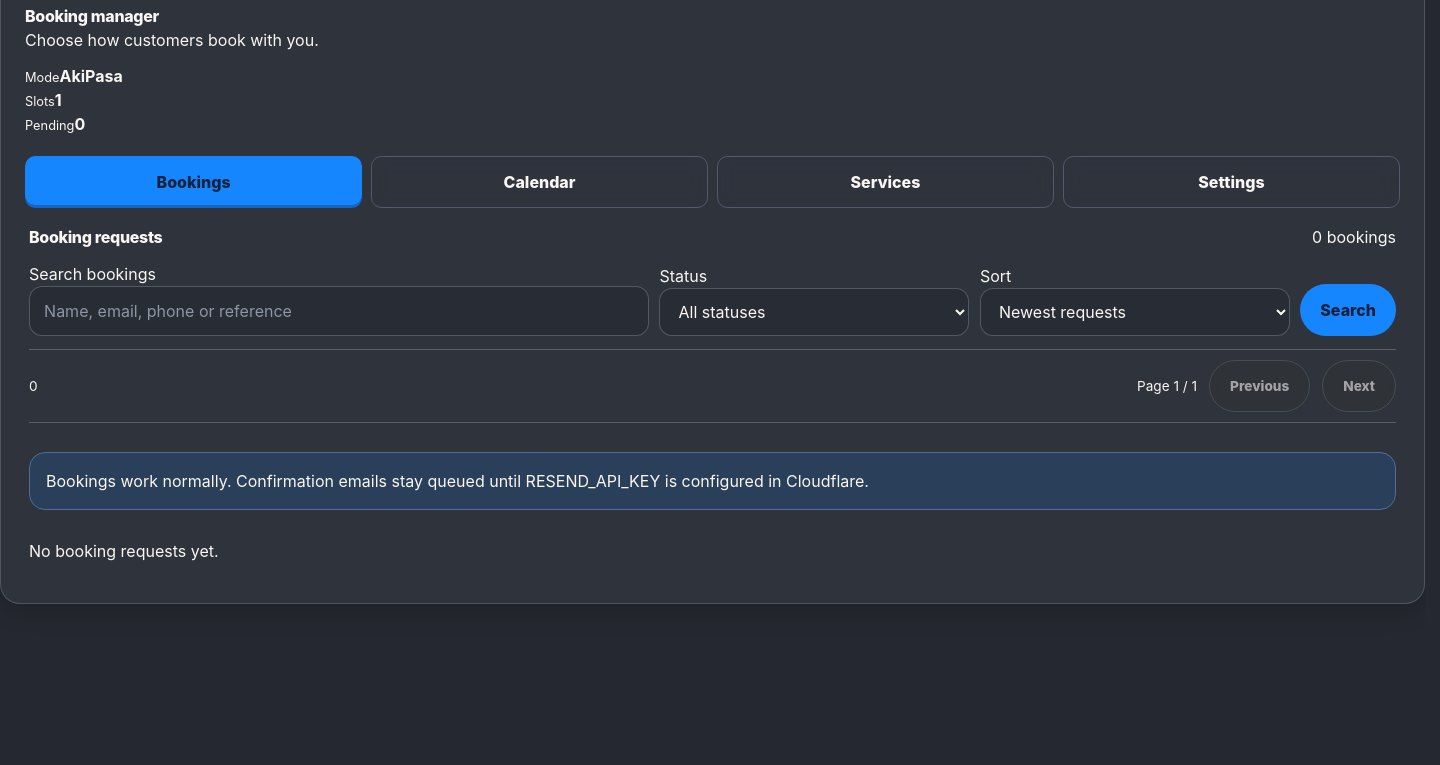
Test: AkiBusiness advanced booking manager › allows businesses to create offerings
This screenshot has width=1440, height=765.
Click the button "Services" at (886, 182), box [717, 156, 1054, 208]
(page scrolled)
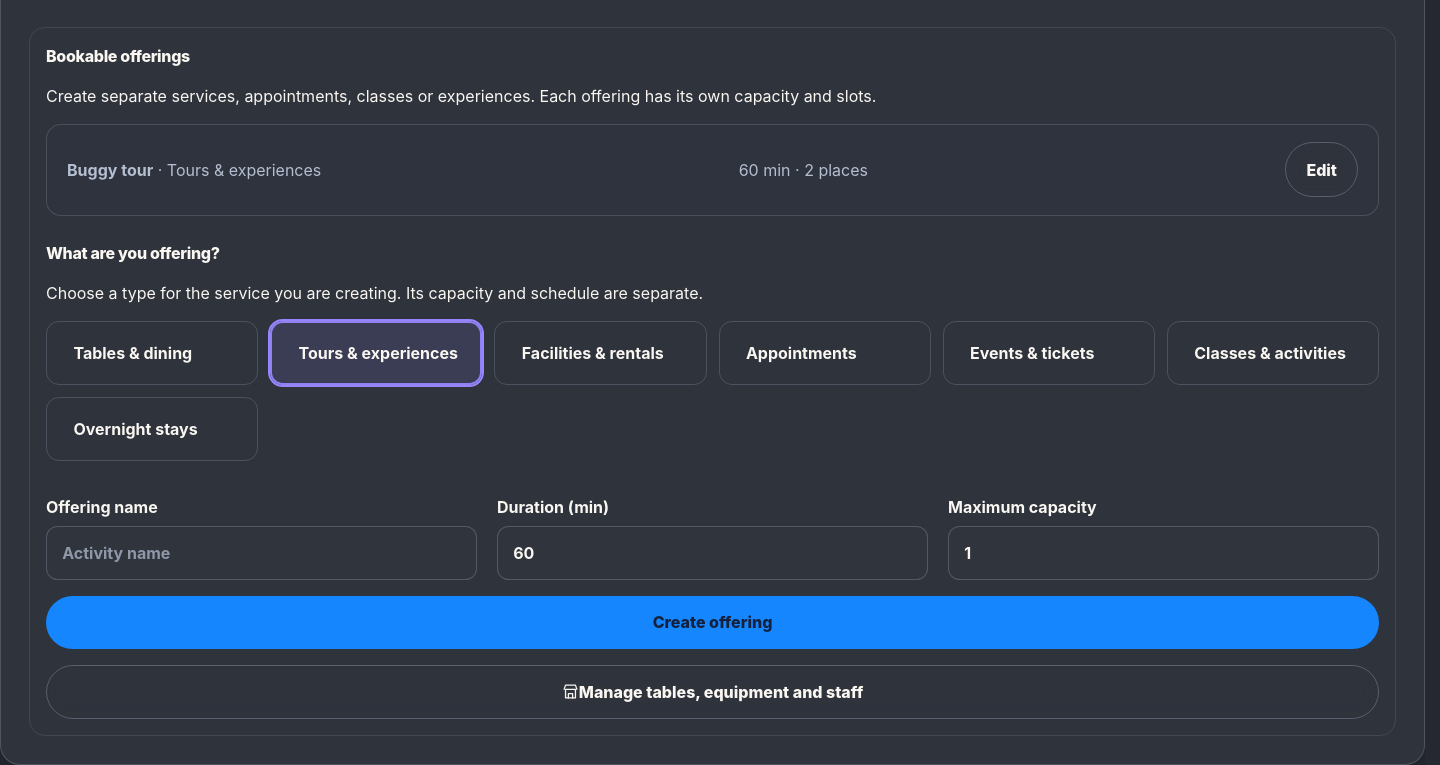
Check: the heading "Bookable offerings" is shown, box [46, 46, 190, 66]
Check: the text "Buggy tour" is shown, box [67, 160, 153, 180]
Check: the button "Create offering" is shown, box [46, 596, 1379, 649]
